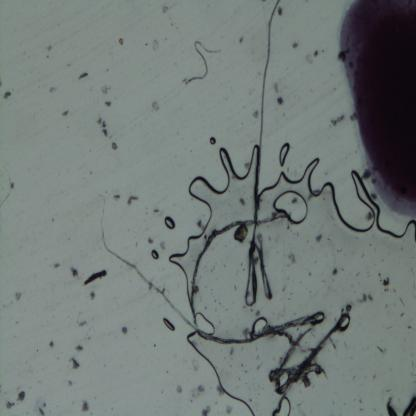Air bubble: (185, 338, 254, 414), (188, 144, 260, 215), (260, 152, 339, 214), (347, 170, 385, 235), (272, 188, 310, 226), (168, 234, 198, 280), (380, 216, 416, 244), (195, 311, 216, 336), (272, 392, 292, 416), (249, 313, 266, 335), (279, 142, 291, 167), (163, 214, 177, 231), (162, 317, 176, 332), (150, 249, 160, 260), (209, 136, 217, 145)
Background material: (0, 164, 15, 209), (383, 396, 416, 415), (83, 268, 108, 288), (96, 116, 108, 141), (234, 226, 250, 244), (191, 383, 205, 401), (358, 291, 374, 305), (197, 402, 212, 416), (287, 249, 298, 268), (330, 115, 346, 128), (361, 170, 373, 184), (374, 343, 388, 355), (174, 382, 184, 398), (69, 266, 80, 280), (383, 275, 391, 294), (151, 36, 160, 52), (77, 317, 89, 329), (196, 219, 206, 233), (71, 356, 81, 370), (80, 399, 90, 413), (364, 210, 374, 224), (304, 52, 314, 66), (1, 90, 12, 102), (77, 71, 90, 81), (127, 195, 140, 205), (17, 390, 26, 404), (151, 101, 161, 113), (224, 402, 234, 414), (314, 231, 324, 243), (120, 325, 130, 336), (349, 112, 359, 123), (99, 84, 109, 95), (60, 107, 70, 118), (6, 399, 16, 410), (277, 97, 286, 109), (15, 290, 24, 302), (112, 192, 122, 202), (52, 260, 62, 270), (109, 142, 118, 153), (74, 344, 85, 353), (159, 240, 168, 251), (370, 191, 379, 202), (331, 266, 339, 278), (192, 360, 200, 372), (37, 405, 46, 415), (276, 7, 284, 18), (292, 38, 299, 50), (48, 340, 56, 350), (49, 86, 59, 94), (253, 110, 260, 121), (118, 37, 125, 48), (161, 5, 170, 13), (274, 82, 280, 93), (104, 100, 112, 108), (88, 292, 96, 300), (147, 237, 154, 246), (313, 50, 319, 58)
Cellulose filter fibre: (96, 196, 326, 345), (189, 210, 284, 314), (271, 312, 352, 395), (185, 38, 223, 86)
Microfibre: (244, 0, 281, 306)
Pen: (339, 0, 416, 220)
